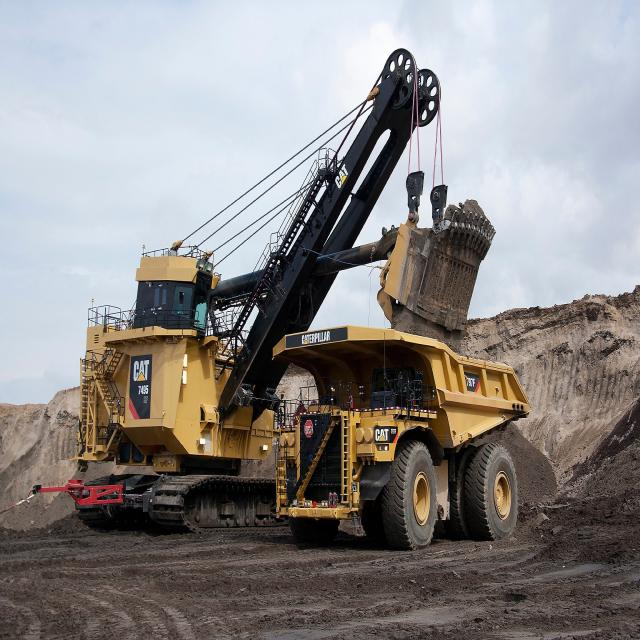dump_truck: (268, 317, 538, 550)
